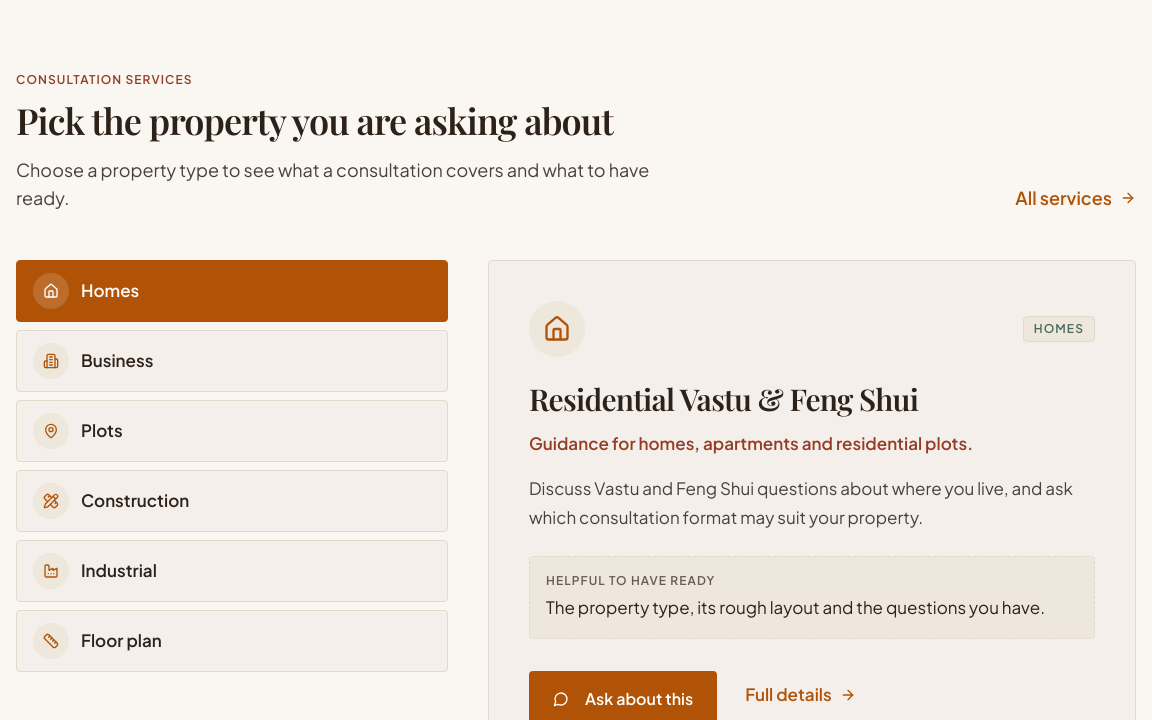
Test: Home Page › renders the property explorer and switches between property types
(page scrolled)
expect the heading "Residential Vastu & Feng Shui" is shown: met, box [529,379,918,419]
Click the tab "Business". click: (51,361)
box: [16,330,448,392]
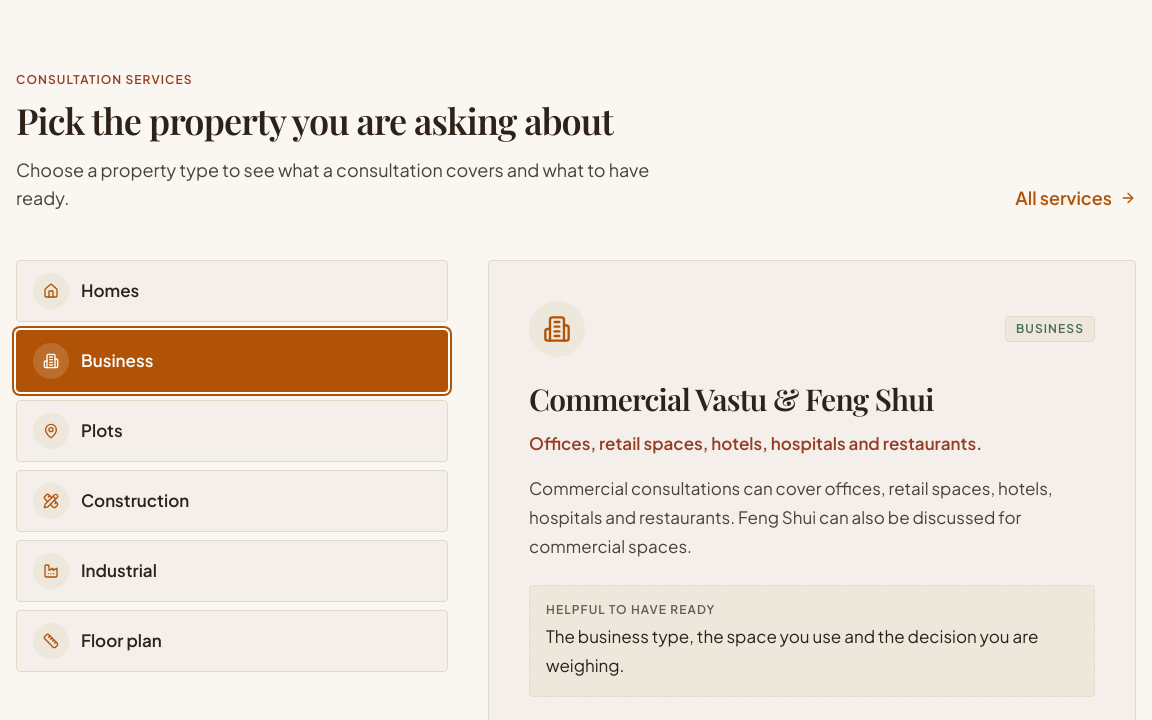
expect the heading "Commercial Vastu & Feng Shui" is shown: met, box [529,379,934,419]
expect the text "Commercial consultations can cover offices, retail spaces" is shown: met, box [529,477,1052,557]
expect the text "The business type, the space you use and the decision you are weighing." is shown: met, box [546,622,1078,680]
